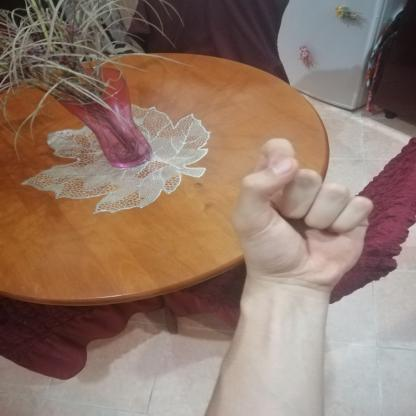FAA: (217, 130, 381, 304)
